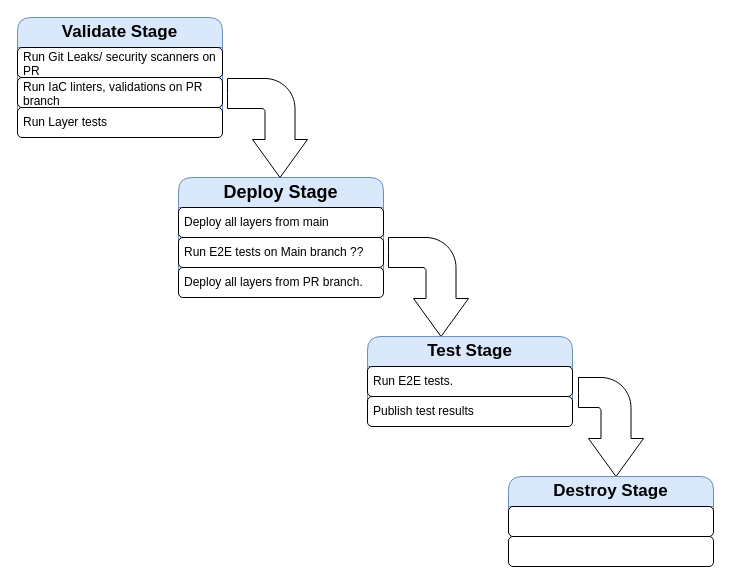
Image size: 731x584. Some labels were removed from this diagram. The shapes that lost their labels are listed below. From the top down, each one's centre as x and y in pixels, then its label:
At [611,521]: "Manual intervention job to approve destroy".
At [611,551]: "Destroy all deployed resources".
